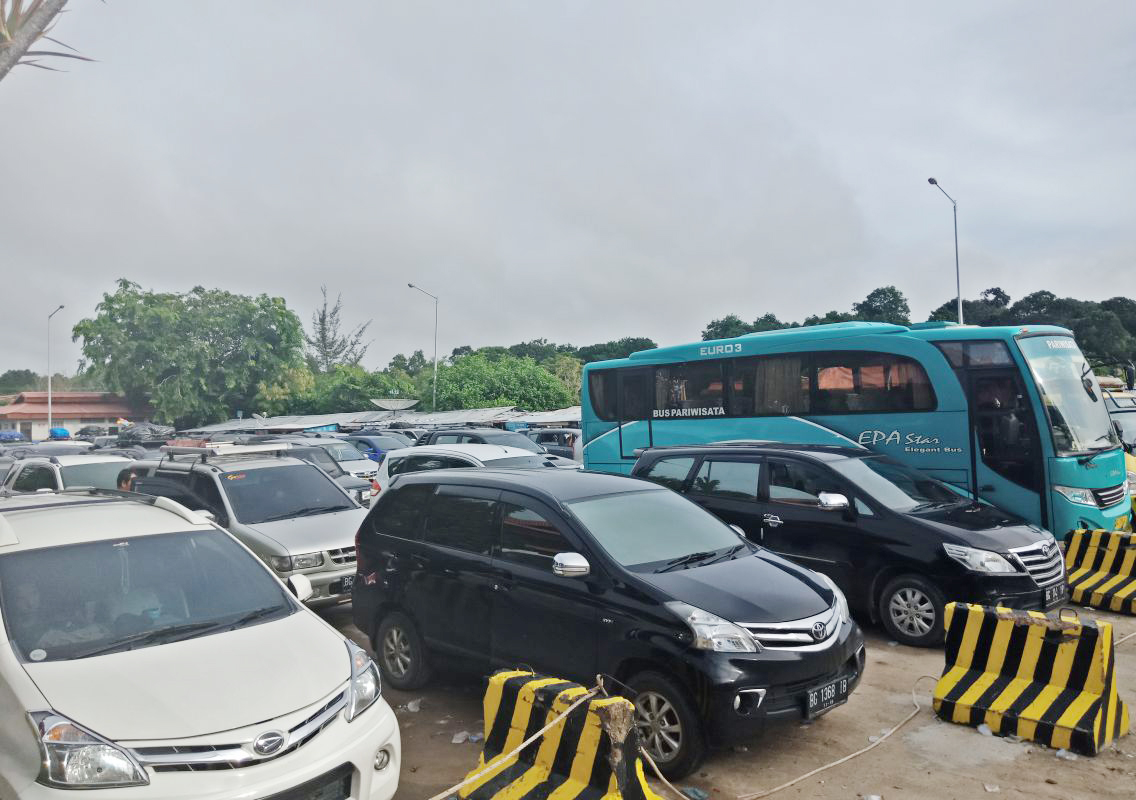plate: (811, 679, 847, 712)
